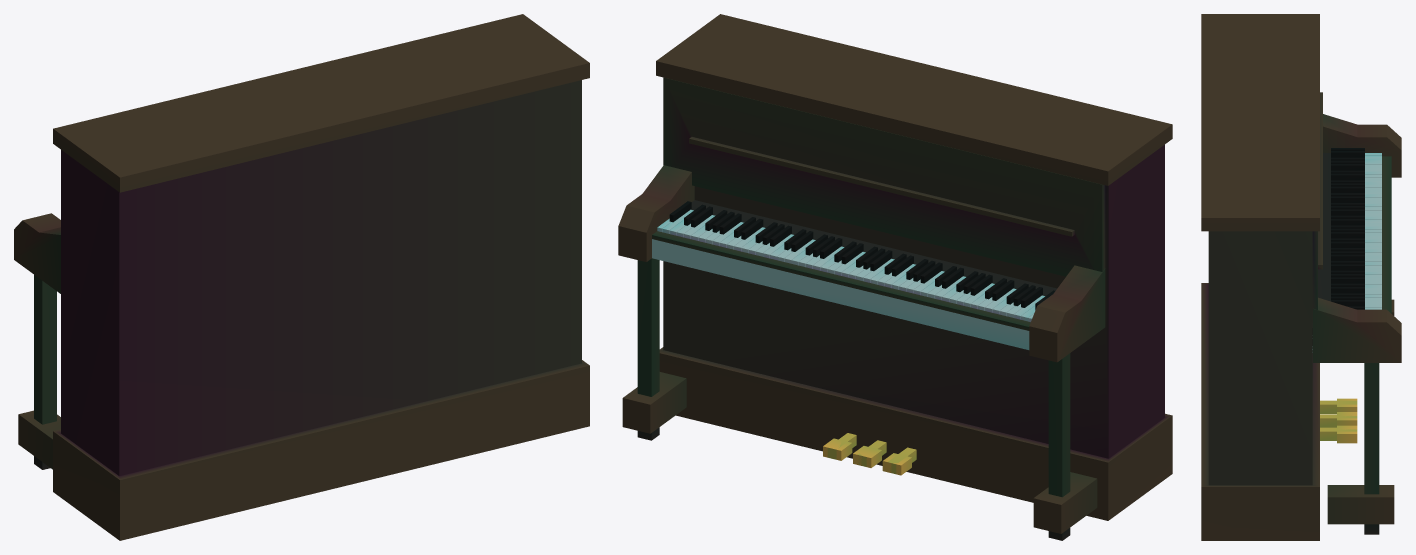
3 renders of one model, left to right at view 1: azimuth 30°, elevation 25°; view 2: azimuth 150°, elevation 25°; view 3: azimuth 270°, elevation 25°, orthographic. The views are drawn at different scales.
Visible parts, largest first — view 1: case, post.001, cheek.003, foot.001; view 2: case, keybed, cheek.003, cheek, front_lip, post.001, post, foot, foot.001, back_rail; view 3: case, cheek, keybed, foot, cheek.003, post, front_lip, back_rail, pedal_toe.003, pedal_stem.001, pedal_stem.002, pedal_stem.003 (+2 smaller).
Boxes of the visible parts, x1,y1,x2,y2 form: case: (53,14,589,540); post.001: (34,275,56,424); cheek.003: (14,213,60,293); foot.001: (18,410,60,469); case: (656,14,1172,520); keybed: (652,209,1044,349); cheek.003: (1029,265,1105,362); cheek: (618,165,694,261); front_lip: (652,231,1030,330); post.001: (1048,353,1070,497); post: (637,258,659,396); foot: (622,372,686,433); foot.001: (1033,472,1097,533); back_rail: (691,200,1057,296); case: (1201,14,1322,540); cheek: (1313,297,1401,362); keybed: (1312,153,1381,352); foot: (1327,485,1394,524); cheek.003: (1323,114,1401,177); post: (1364,363,1379,494); front_lip: (1382,156,1391,313); back_rail: (1312,153,1330,351); pedal_toe.003: (1337,425,1357,443); pedal_stem.001: (1320,400,1357,413); pedal_stem.002: (1320,414,1357,427); pedal_stem.003: (1320,427,1357,440).
Bounding box in the file's own units: 1.5 × 1.11 × 0.6225.
